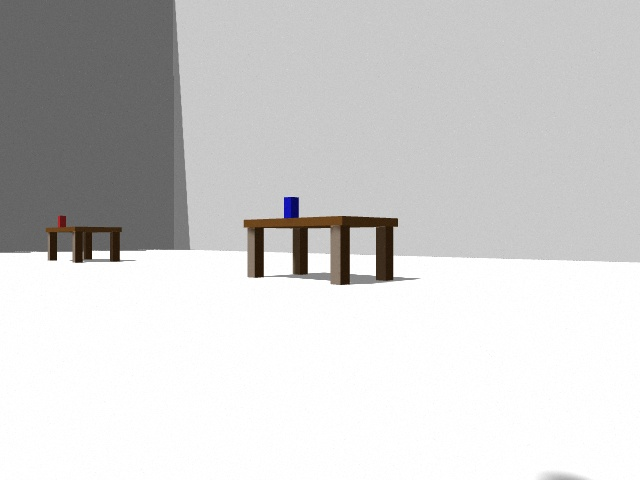blue_cube: (284, 197, 299, 218)
